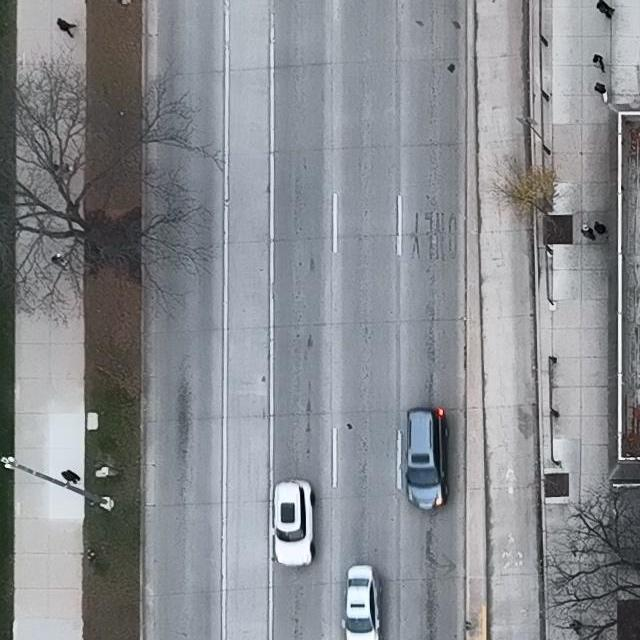car: (406, 408, 448, 510), (272, 480, 314, 568), (342, 564, 380, 640)
